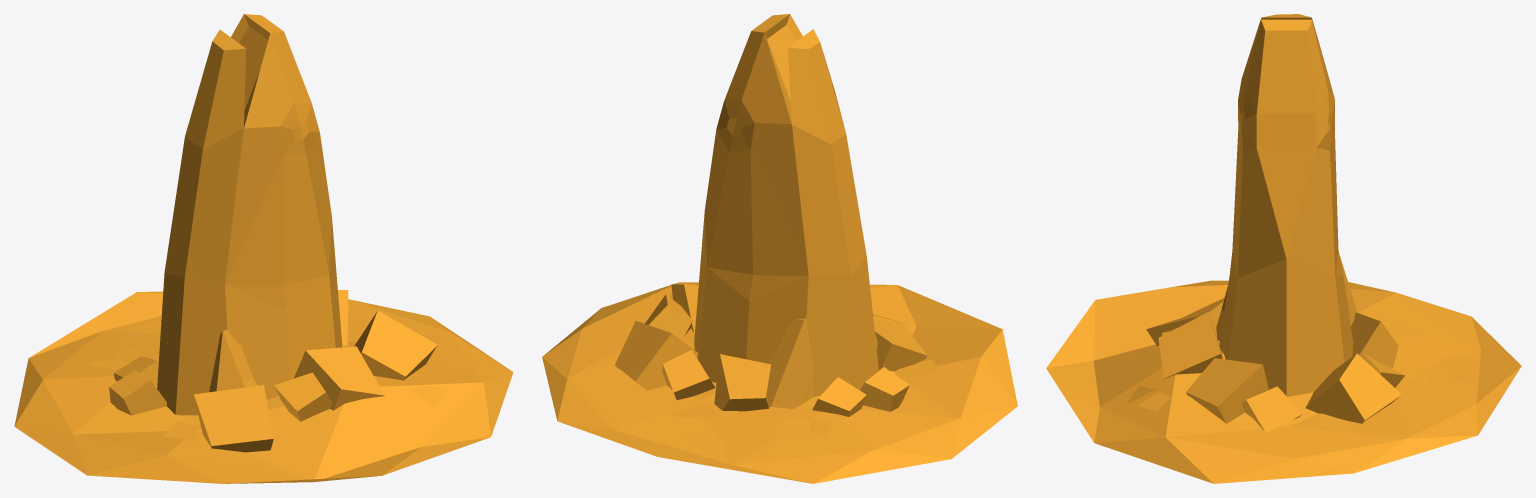
File: SM_Soup_Fish_A.fbx
3 views of the same model, side by side, from view 1: azimuth 30°, elevation 25°; view 2: azimuth 150°, elevation 25°; view 3: azimuth 270°, elevation 25° (orthographic). The views are drawn at different scales.
Visible parts, largest first — view 1: soup-fish-a; view 2: soup-fish-a; view 3: soup-fish-a.
Boxes of the visible parts, x1,y1,x2,y2 form: soup-fish-a: [14, 14, 513, 483]; soup-fish-a: [542, 14, 1017, 483]; soup-fish-a: [1046, 14, 1521, 483].
Size of the model in its own units: 0.2331 by 0.2099 by 0.2315.
